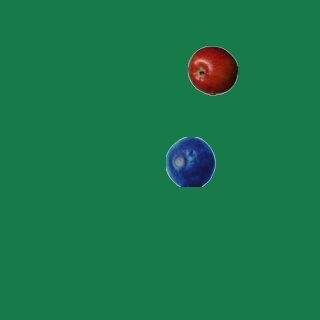Apple Braeburn: (187, 45, 237, 95)
Huckleberry: (165, 136, 215, 186)
